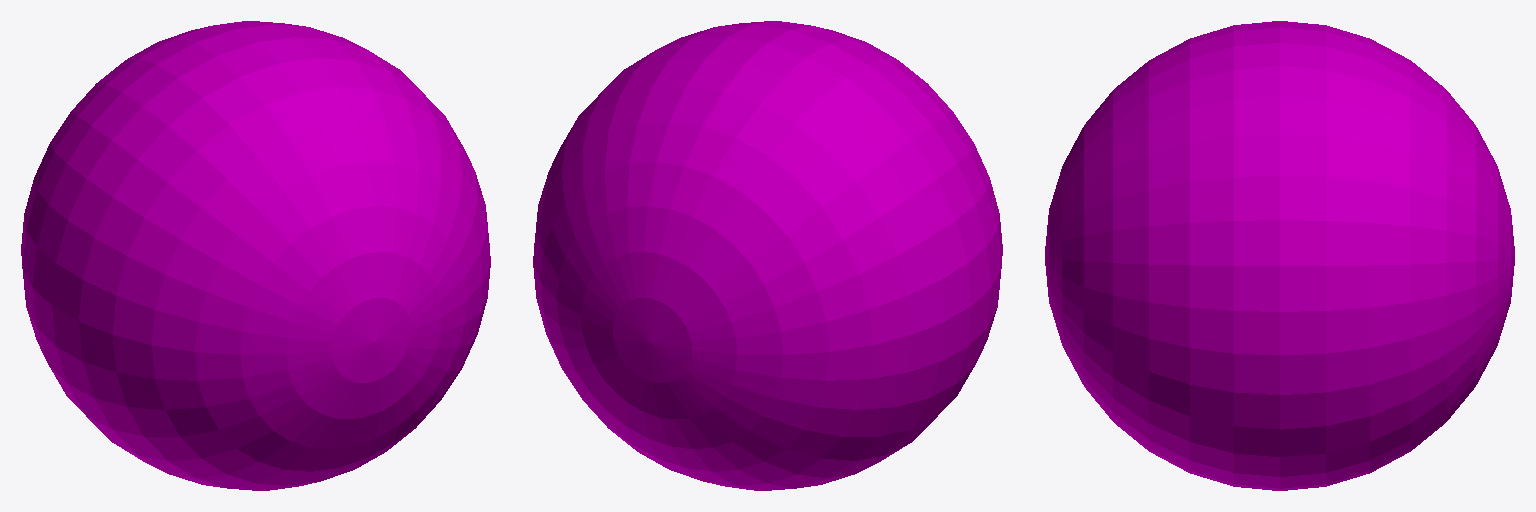
The model's file is purple.obj.
3 renders of one model, left to right at view 1: azimuth 30°, elevation 25°; view 2: azimuth 150°, elevation 25°; view 3: azimuth 270°, elevation 25°, orthographic.
Parts seen in each view (by area): view 1: purple_Sphere.011; view 2: purple_Sphere.011; view 3: purple_Sphere.011.
Boxes of the visible parts, box(x1,y1,x2,y2) form: purple_Sphere.011: box(21, 21, 490, 490); purple_Sphere.011: box(533, 21, 1002, 490); purple_Sphere.011: box(1045, 21, 1514, 490).
Bounding box in the file's own units: 2 × 2 × 2.